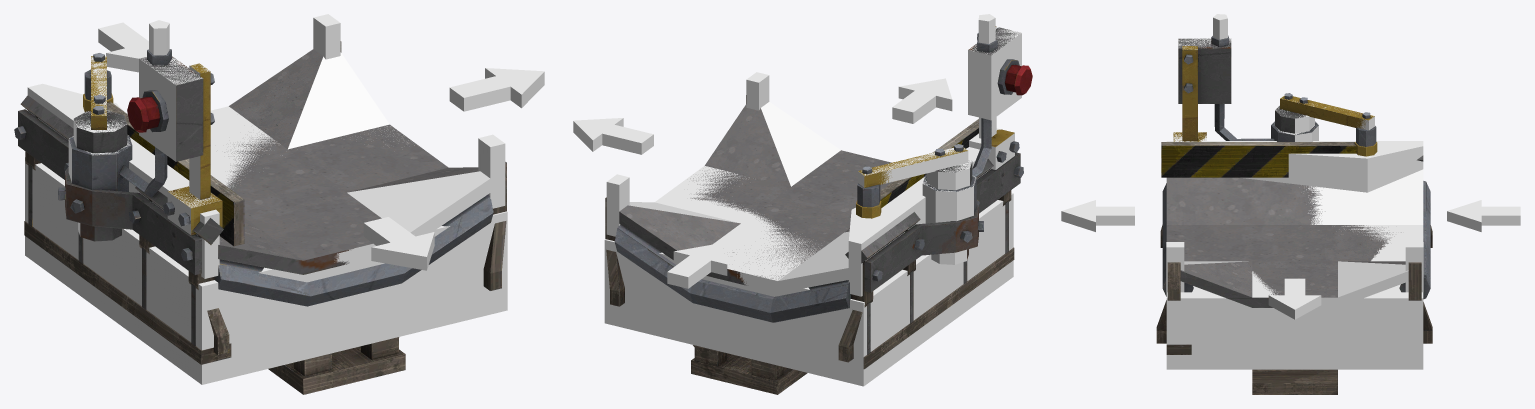
File: ConveyorRouting_Left.glb
The picture shows the model from 3 angles, left to right: view 1: azimuth 30°, elevation 25°; view 2: azimuth 150°, elevation 25°; view 3: azimuth 270°, elevation 25°; orthographic projection. The views are drawn at different scales.
Visible parts, largest first — view 1: ConveyorRoutingLeft, ConveyorRoutingLeft_Col, ghostarrow (2), ghostarrow, ConveyorRoutingLeft_Wiper, ghostarrow (1), ConveyorRoutingLeft_Button; view 2: ConveyorRoutingLeft_Col, ConveyorRoutingLeft, ghostarrow (2), ghostarrow (1), ghostarrow, ConveyorRoutingLeft_Wiper, ConveyorRoutingLeft_Button; view 3: ConveyorRoutingLeft_Col, ConveyorRoutingLeft, ConveyorRoutingLeft_Wiper, ghostarrow (1), ghostarrow, ghostarrow (2).
Boxes of the visible parts, x1=… form: ConveyorRoutingLeft: x1=14, y1=20, x2=506, y2=394; ConveyorRoutingLeft_Col: x1=25, y1=14, x2=507, y2=384; ghostarrow (2): x1=449, y1=68, x2=544, y2=111; ghostarrow: x1=363, y1=217, x2=434, y2=270; ConveyorRoutingLeft_Wiper: x1=83, y1=93, x2=244, y2=246; ghostarrow (1): x1=98, y1=22, x2=148, y2=72; ConveyorRoutingLeft_Button: x1=127, y1=97, x2=160, y2=132; ConveyorRoutingLeft_Col: x1=604, y1=26, x2=1021, y2=386; ConveyorRoutingLeft: x1=605, y1=14, x2=1023, y2=394; ghostarrow (2): x1=573, y1=118, x2=653, y2=154; ghostarrow (1): x1=667, y1=243, x2=727, y2=288; ghostarrow: x1=892, y1=78, x2=952, y2=123; ConveyorRoutingLeft_Wiper: x1=856, y1=119, x2=978, y2=218; ConveyorRoutingLeft_Button: x1=1005, y1=65, x2=1032, y2=95; ConveyorRoutingLeft_Col: x1=1166, y1=38, x2=1423, y2=369; ConveyorRoutingLeft: x1=1156, y1=14, x2=1432, y2=394; ConveyorRoutingLeft_Wiper: x1=1161, y1=142, x2=1377, y2=177; ghostarrow (1): x1=1447, y1=200, x2=1520, y2=231; ghostarrow: x1=1061, y1=200, x2=1134, y2=231; ghostarrow (2): x1=1268, y1=278, x2=1321, y2=319.
Bounding box in the file's own units: 1.56 × 1.15 × 1.79.
Materials: 7 (2 with a texture image).
